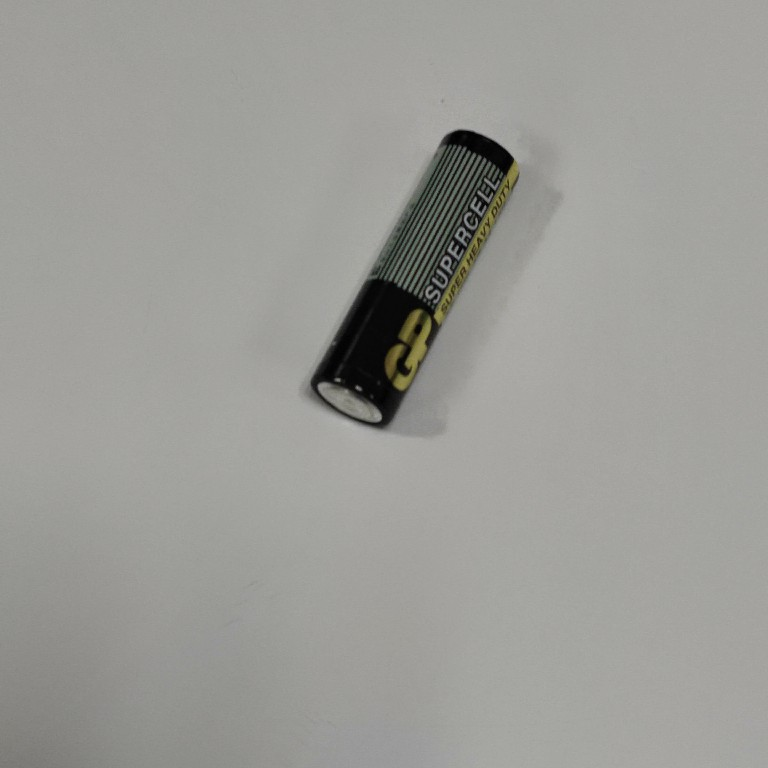charge: (306, 123, 526, 431)
